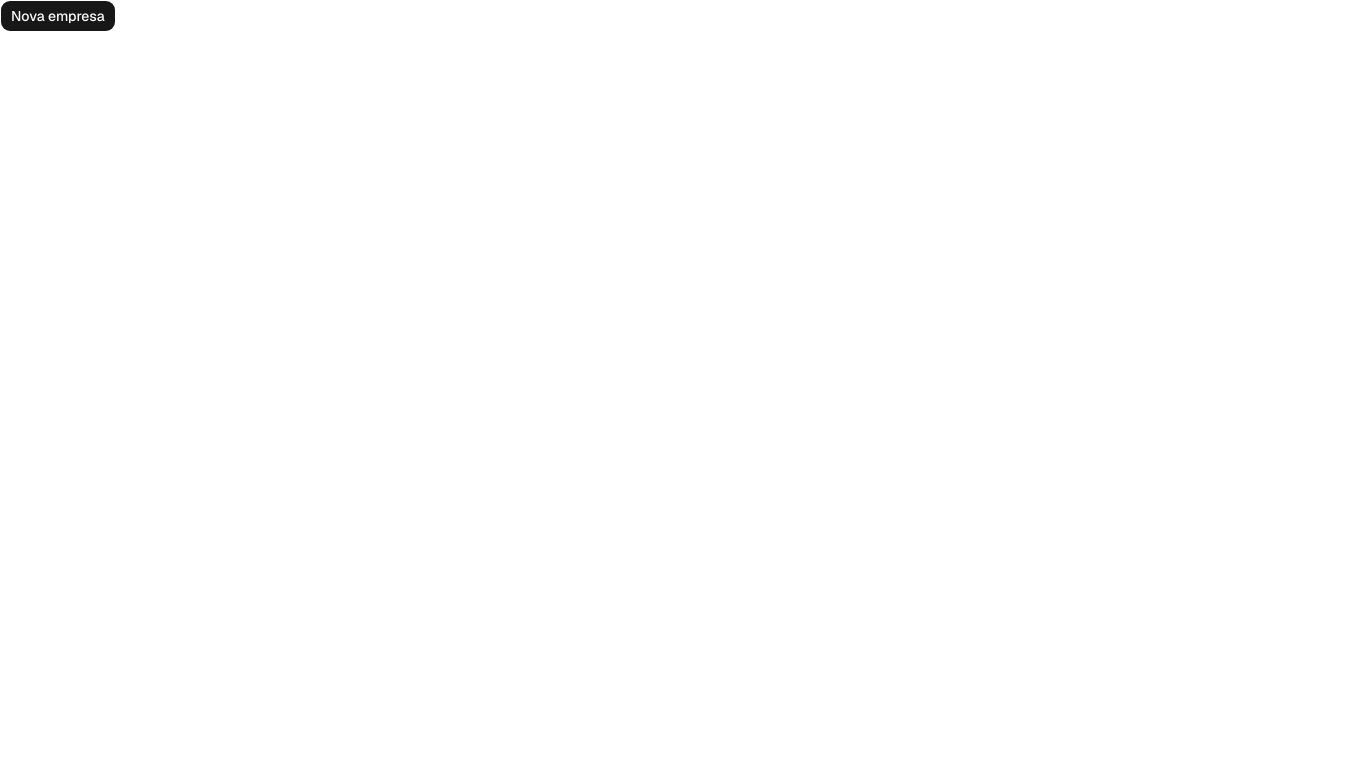
Test: CreateCompanyDialog › opens the form
The width and height of the screenshot is (1366, 768).
Click the button "Nova empresa": (58, 16) [0,0,116,32]
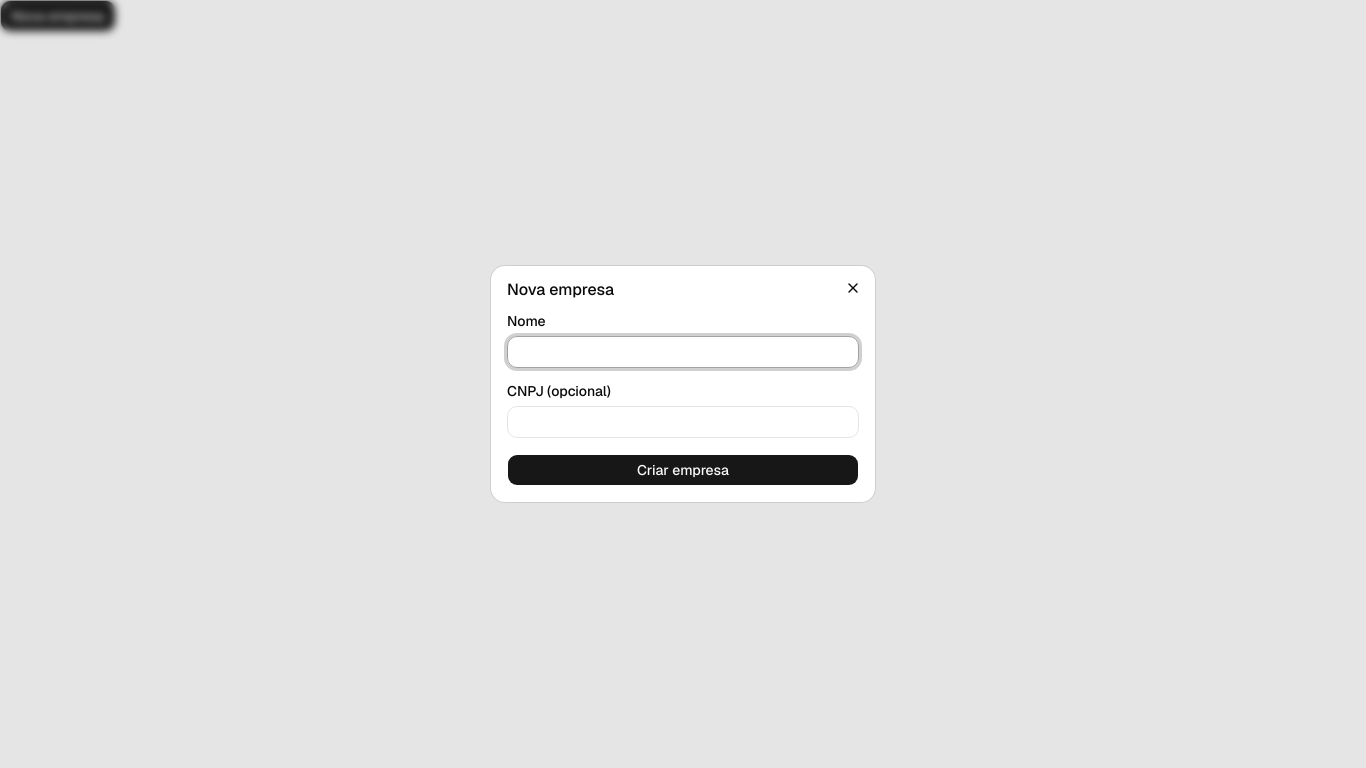
Expected: the dialog is shown, [491,266,875,502]
Expected: the field labelled "Nome" is shown, [507,336,859,368]
Expected: the field labelled "CNPJ (opcional)" is shown, [507,406,859,438]
